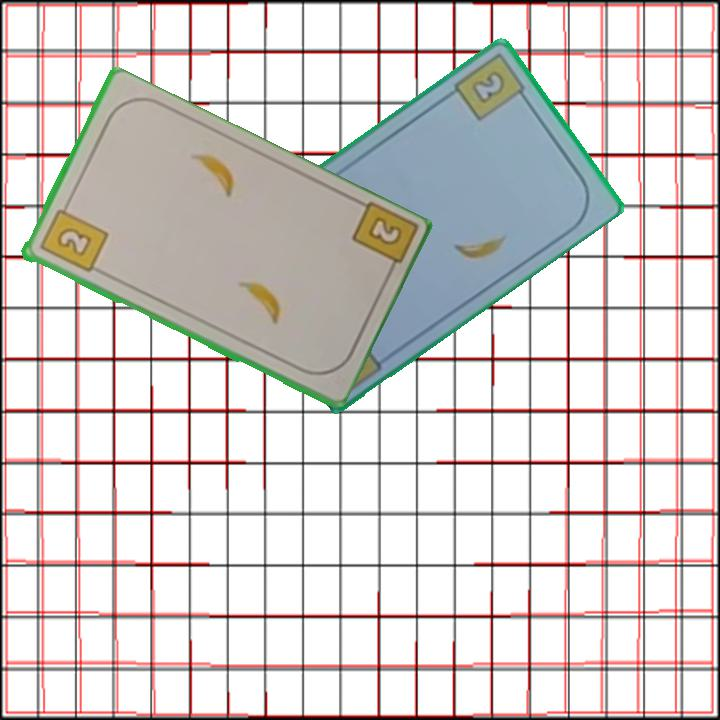2b: (450, 49, 533, 124), (35, 198, 110, 276), (347, 199, 417, 281)
